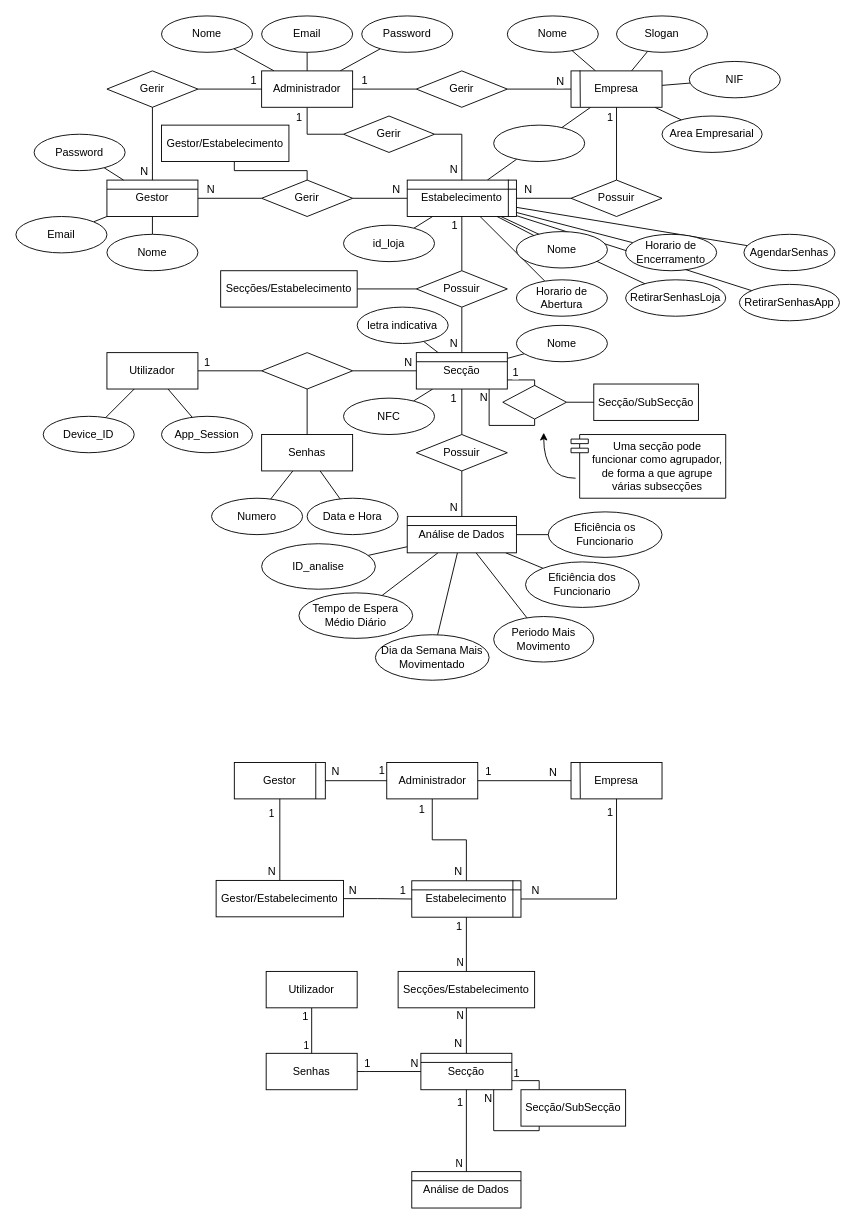
The diagram is 855 pixels wide and 1224 high, and some of its shapes have lost their labels. The shapes that lost their labels are listed below. From the top down, each one's centre as x and y in pixels, then its label:
At (x=539, y=143): "Morada".
At (x=307, y=370): "Pedir Senha".
At (x=534, y=401): "Agrupar".
